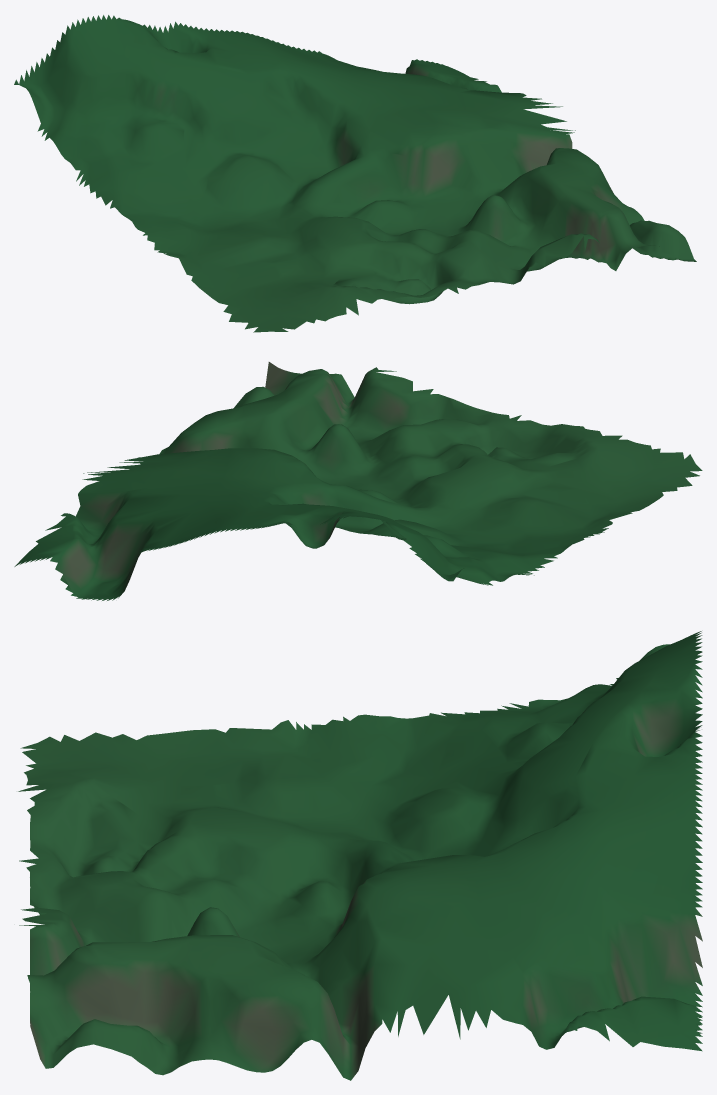
File: payo_land_x0_y5_lod1.glb
The picture shows the model from 3 angles, top to bottom: view 1: azimuth 30°, elevation 25°; view 2: azimuth 150°, elevation 25°; view 3: azimuth 270°, elevation 25°; orthographic projection. The views are drawn at different scales.
Visible parts, largest first — view 1: payo_land_x0_y5; view 2: payo_land_x0_y5; view 3: payo_land_x0_y5.
Boxes of the visible parts, <box> form: payo_land_x0_y5: <box>14,15,696,332</box>; payo_land_x0_y5: <box>14,362,702,600</box>; payo_land_x0_y5: <box>18,631,702,1080</box>.
Size of the model in its own units: 277 by 89.36 by 264.
